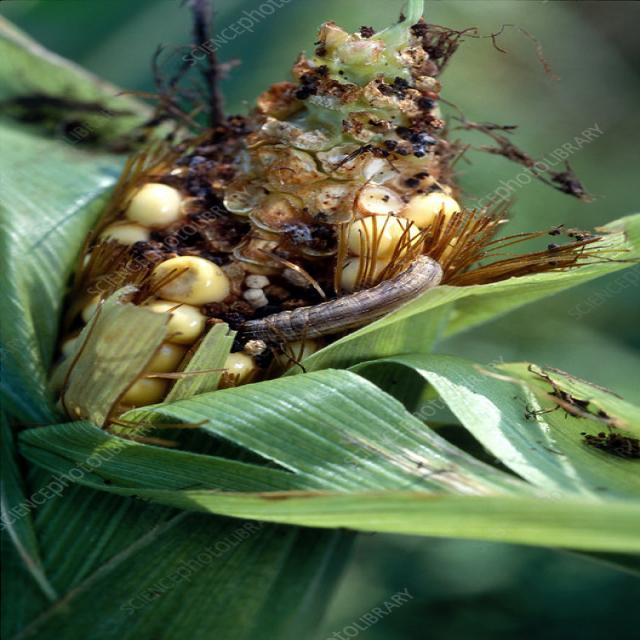cornborer-Larva-: (219, 246, 452, 347)
